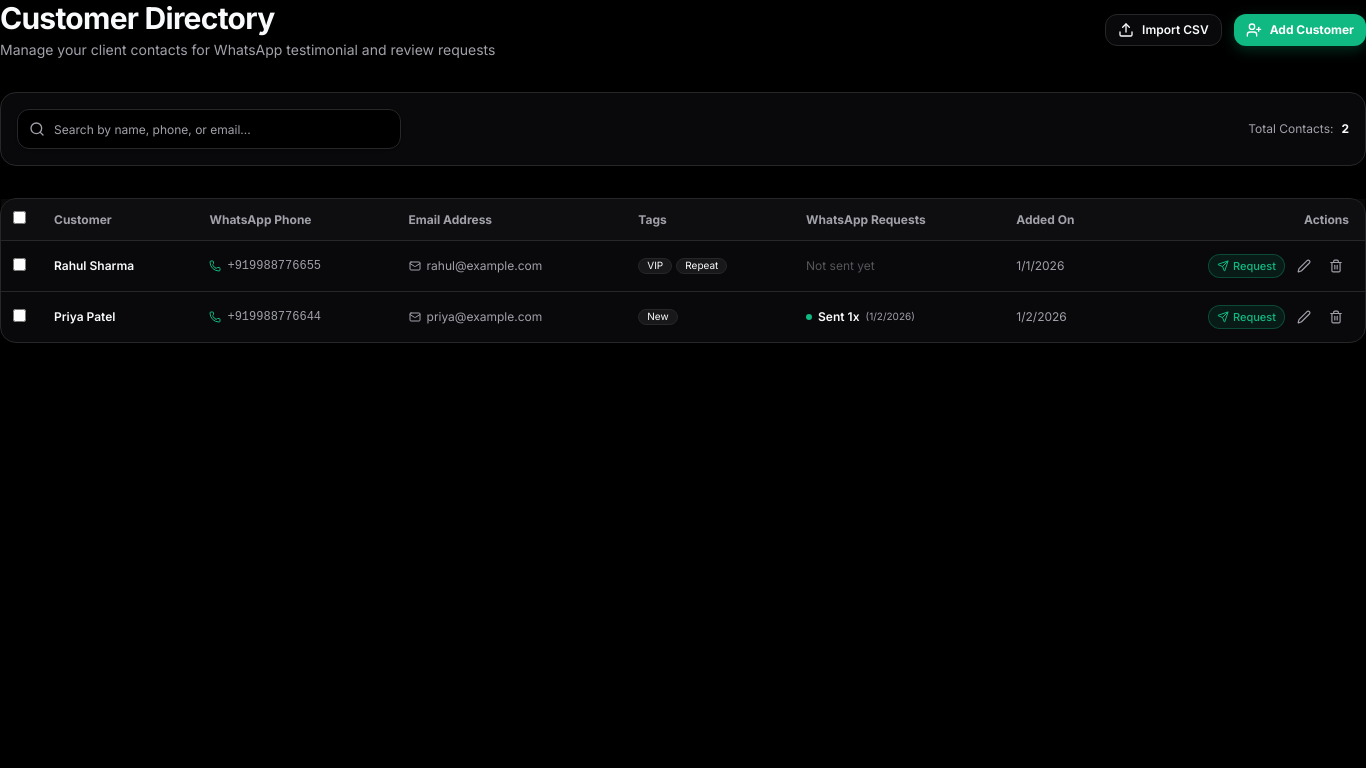
Test: CustomersPage & WhatsApp Requests Integration Tests › creates a new customer and refreshes the directory
# Open dialog
Click the button "Add Customer" at [1300, 30], box [1234,14,1365,46]
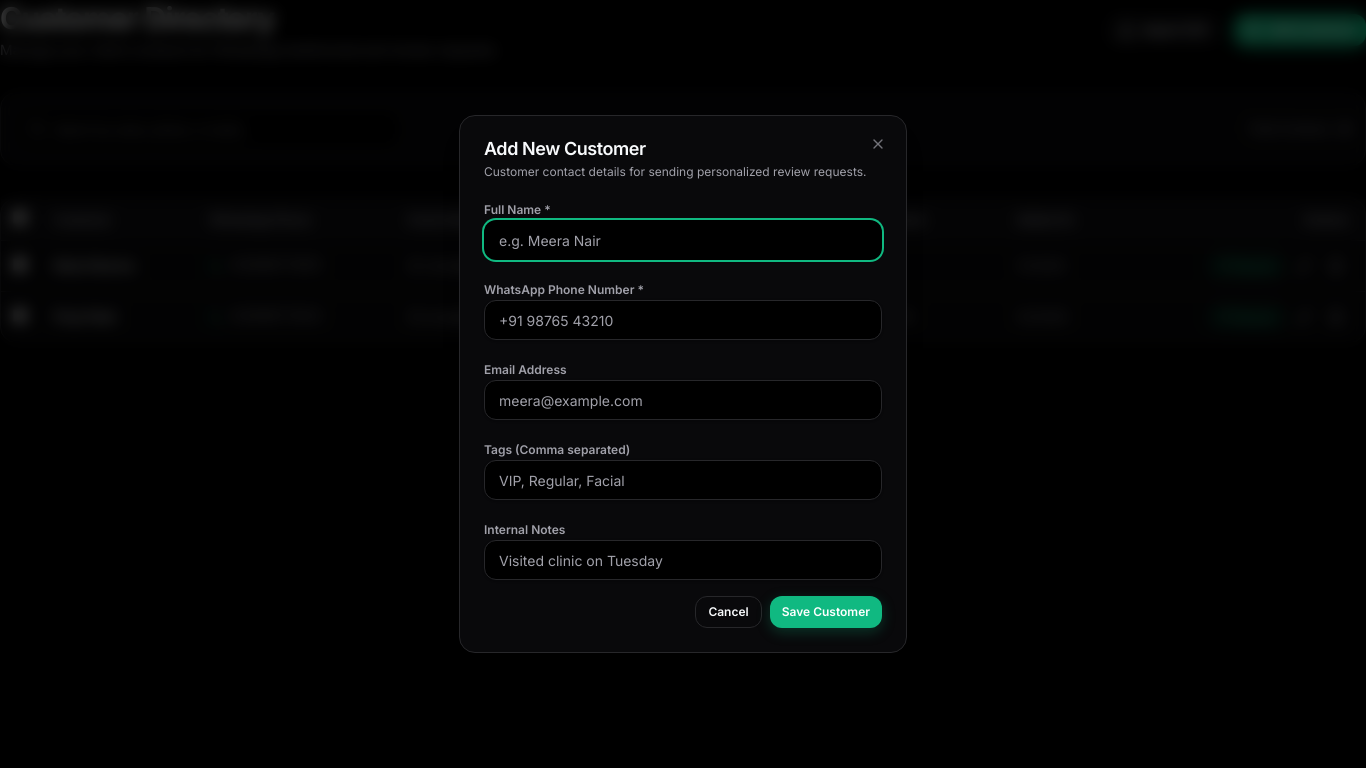
Type "Ananya Sen" into the field with placeholder "e.g. Meera Nair" at [683, 240], box [484,220,882,260]
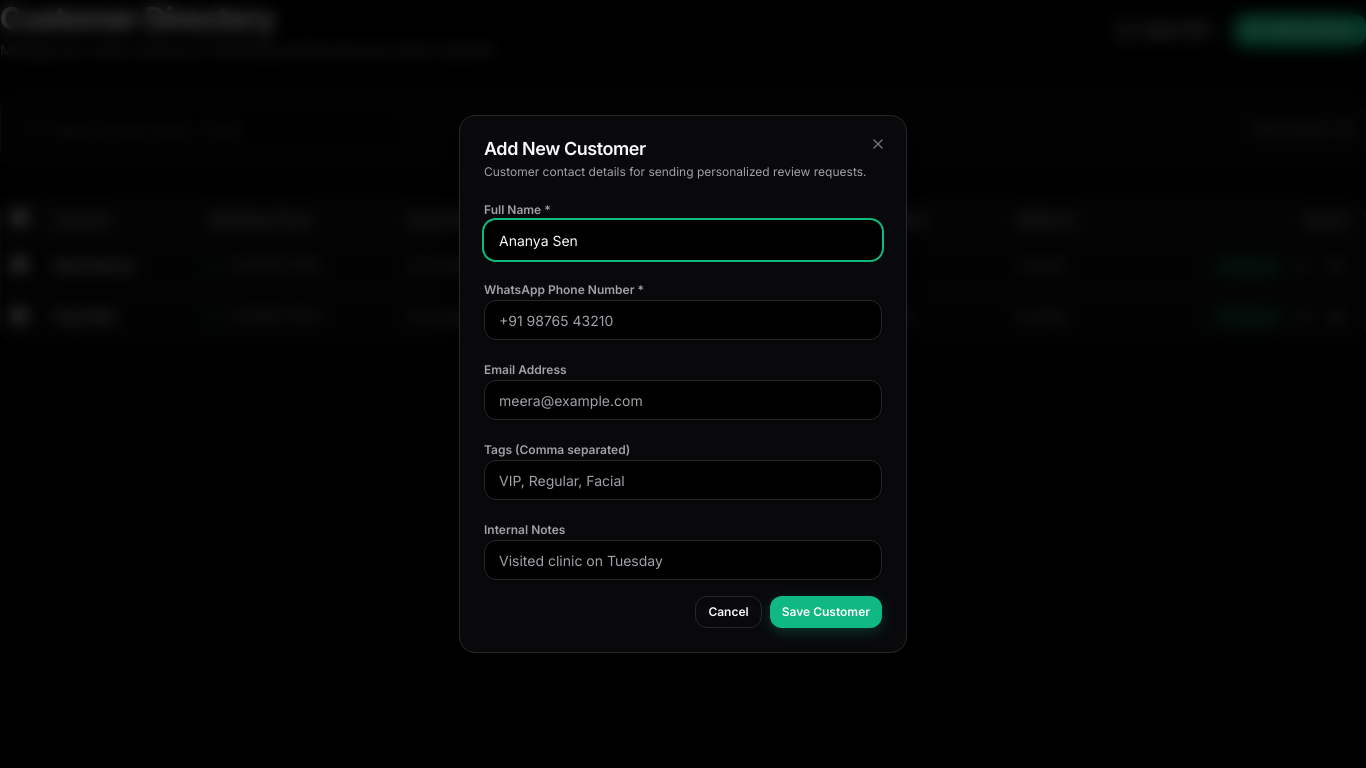
Type "+919876543210" into the field with placeholder "+91 98765 43210" at [683, 320], box [484,300,882,340]
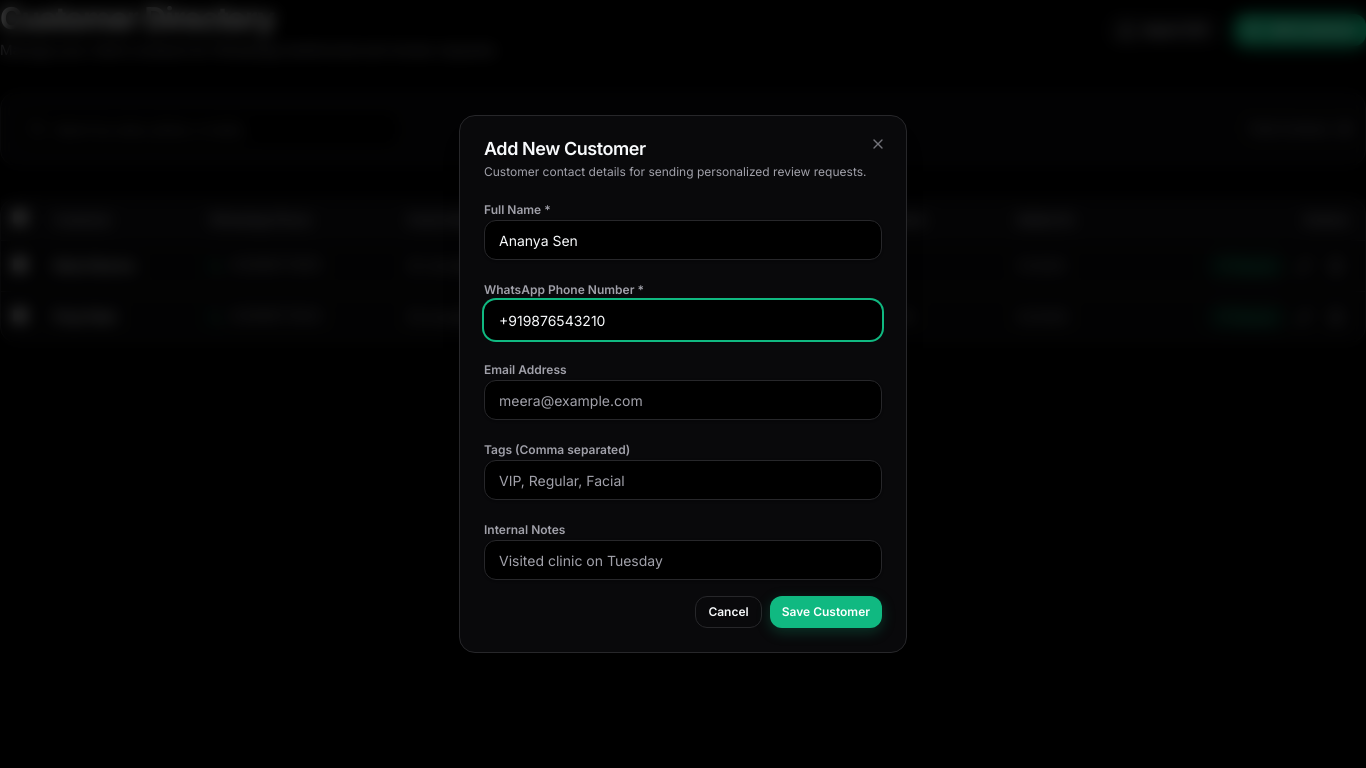
Click the button "Save Customer" at [826, 612], box [770,596,882,628]
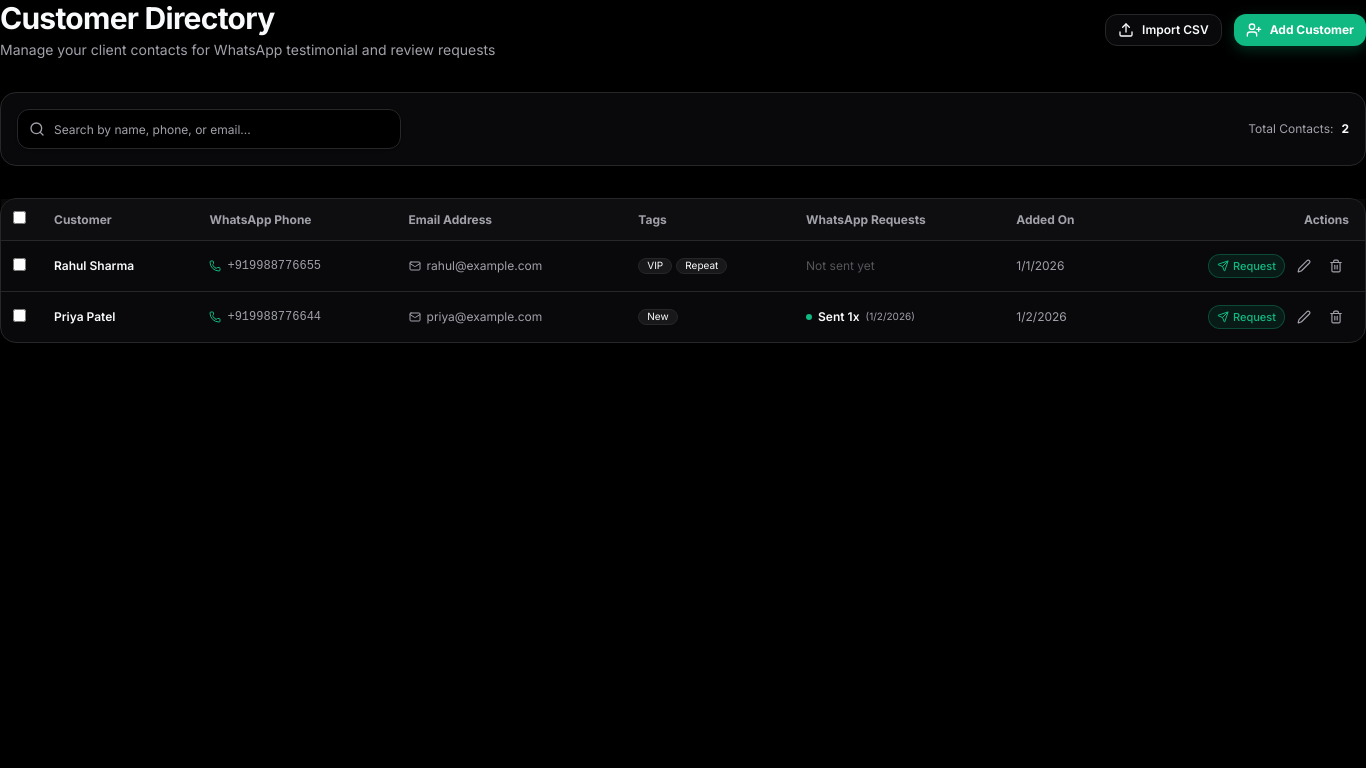
Check: the heading "Add New Customer" is gone
